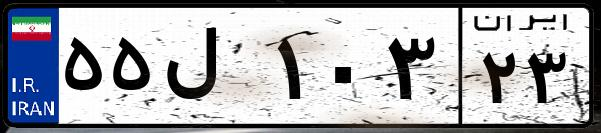0: (330, 28, 385, 110)
1: (270, 28, 330, 110)
2: (475, 38, 525, 113)
3: (385, 28, 445, 110), (525, 38, 570, 115)
5: (57, 26, 110, 100), (110, 28, 158, 98)
ل: (158, 20, 270, 120)
